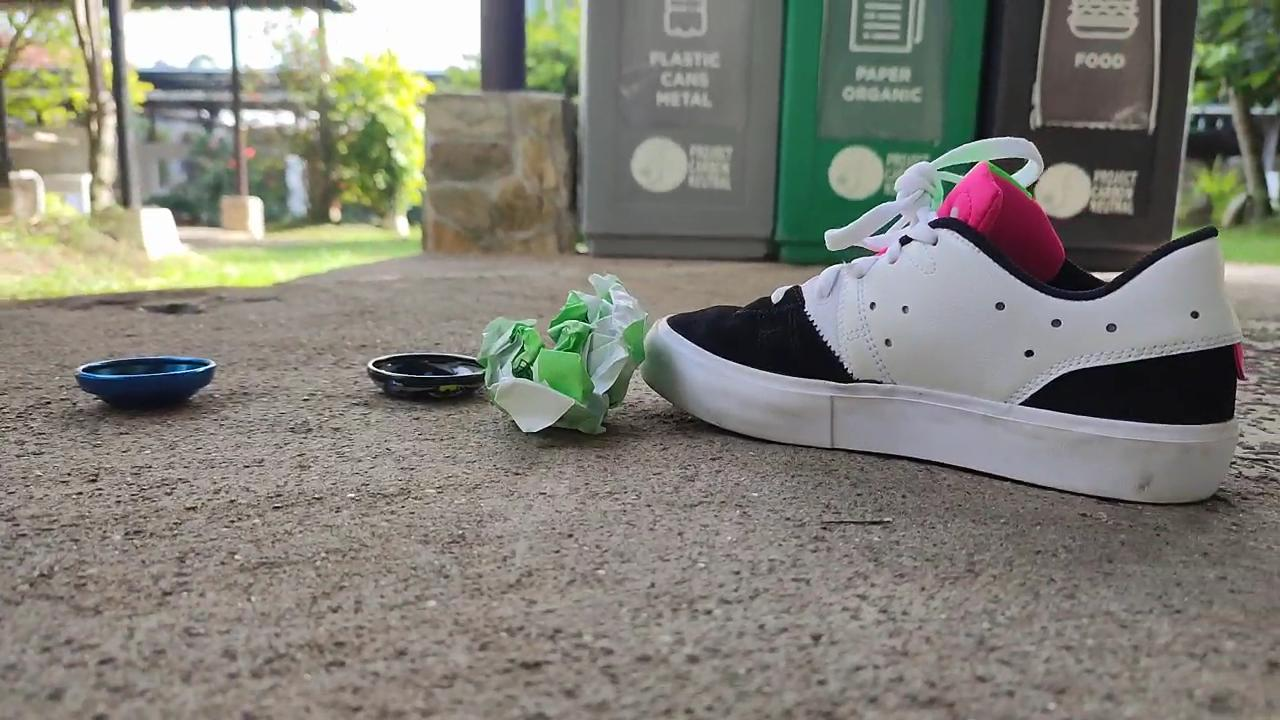paper: (479, 273, 650, 432)
